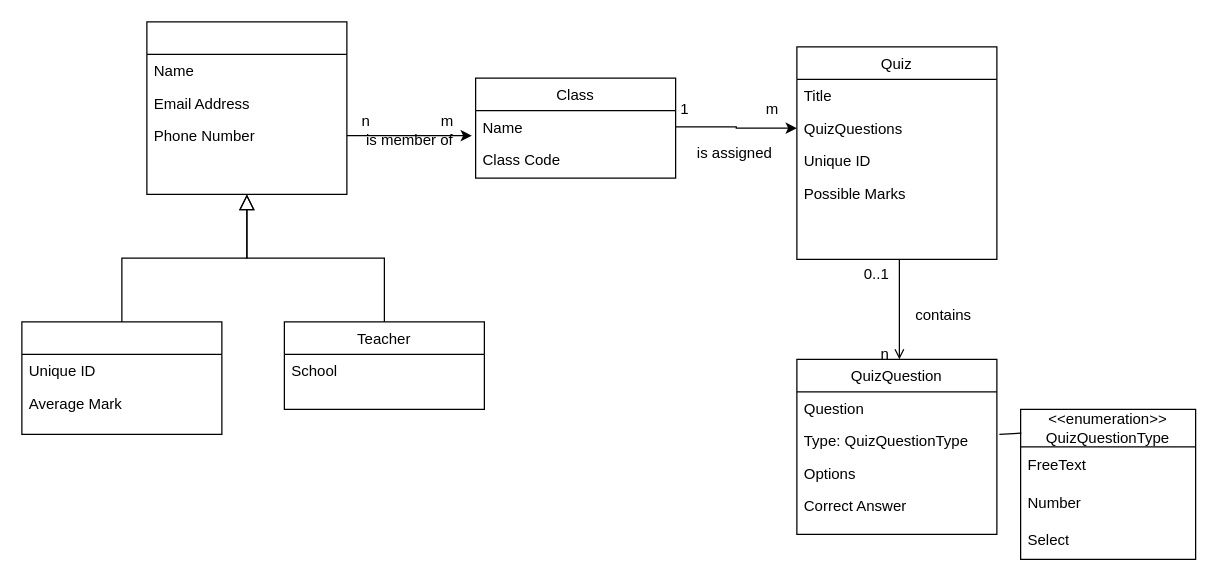
The diagram is 1218 pixels wide and 581 high, and some of its shapes have lost their labels. The box of each missing label's shape, as (x1, y1, x2, y2) in pixels:
Member: (146, 21, 347, 194)
Student: (21, 321, 222, 434)
